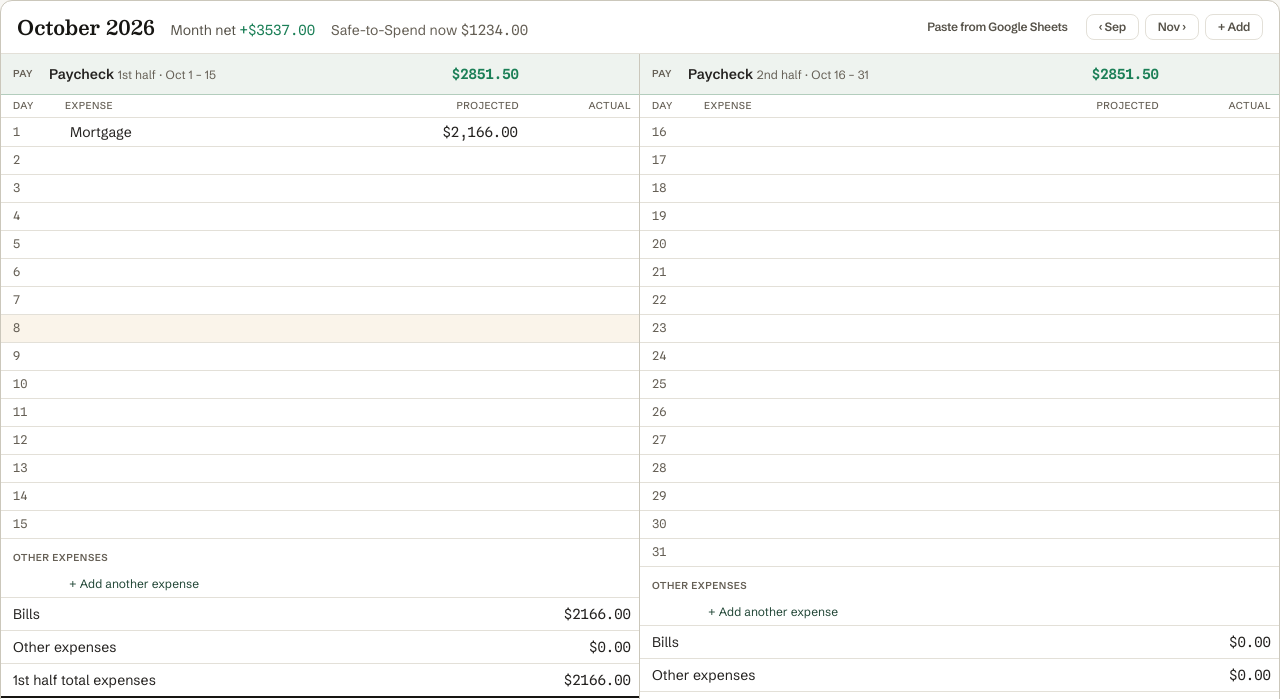
Scenario: MoneyCell › shows dollars at rest and puts the old value back on Escape
Focus the field named "Mortgage amount" at [471, 132], box [415,119,527,145]
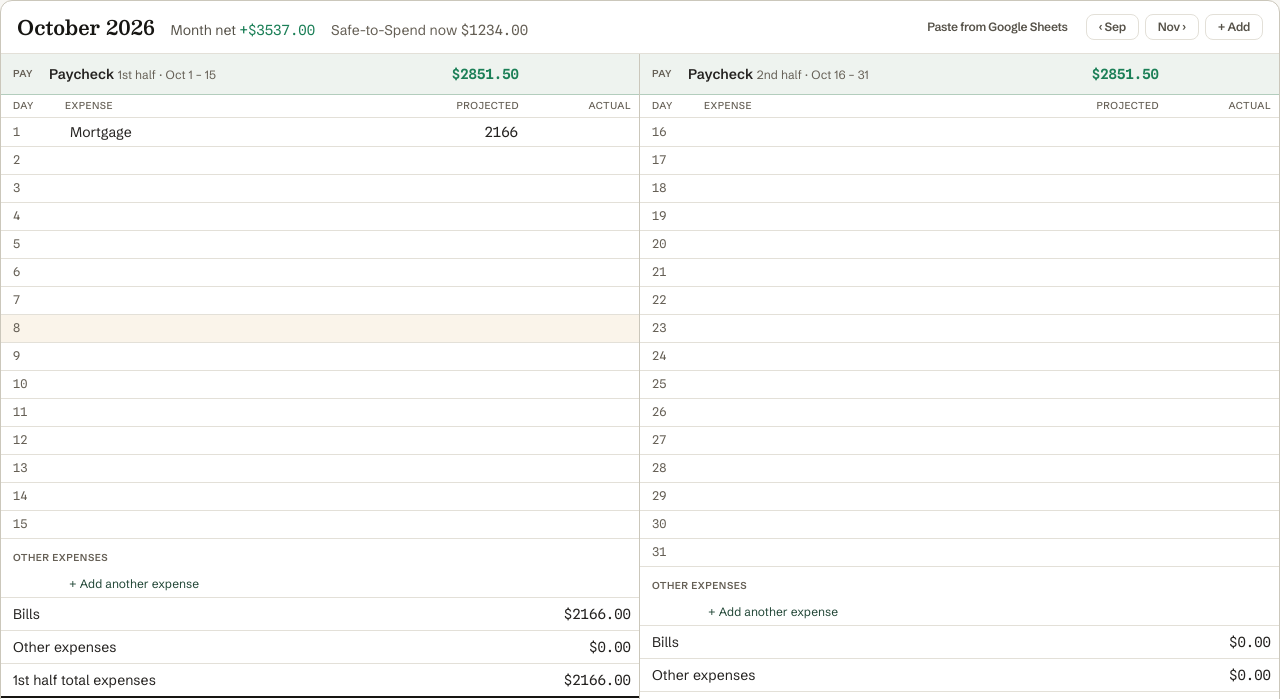
Now the field named "Mortgage amount" holds "2166"
Replace the text in the field named "Mortgage amount" with "9999" at [471, 132], box [415,119,527,145]
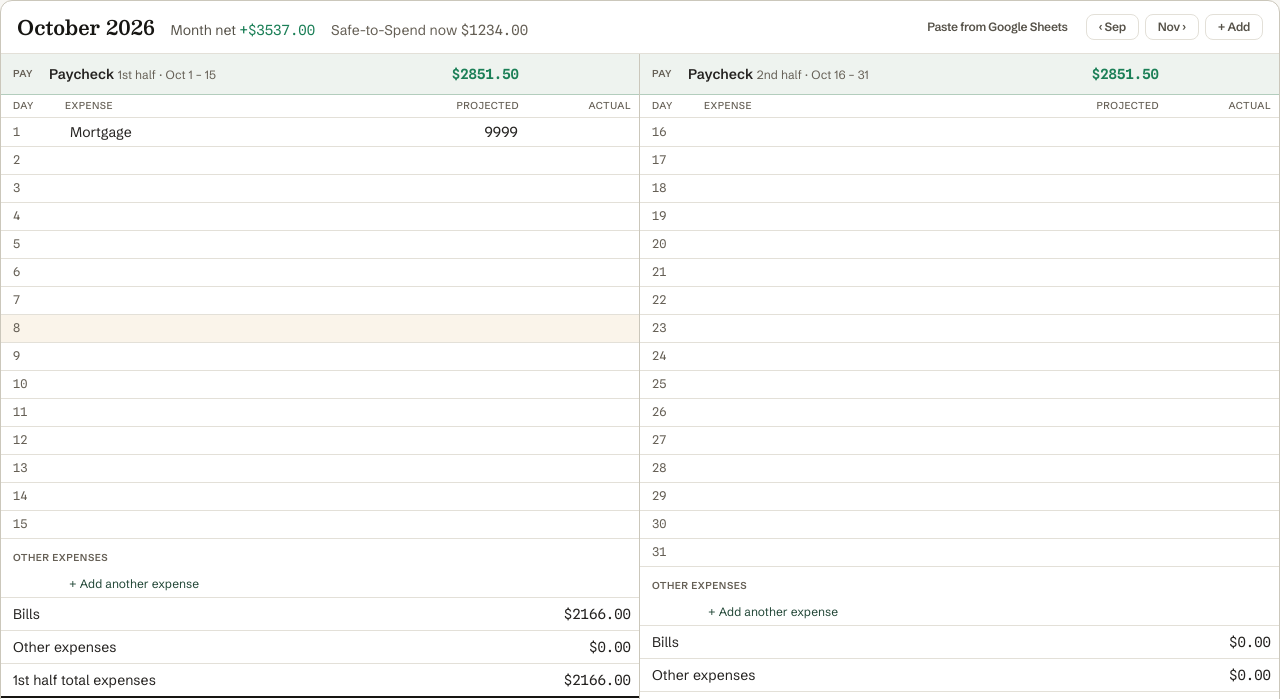
Press Escape in the field named "Mortgage amount", box [415,119,527,145]
Leave the field named "Mortgage amount", box [415,119,527,145]
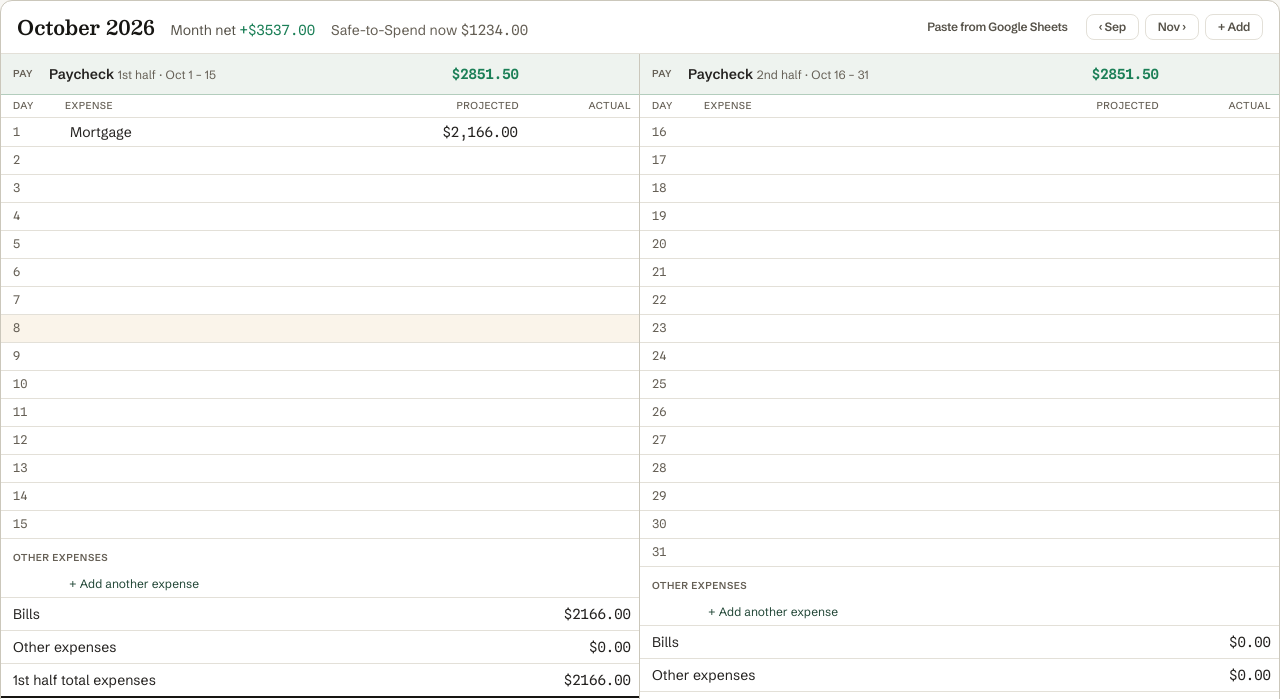
Now the field named "Mortgage amount" holds "$2,166.00", box [415,119,527,145]
